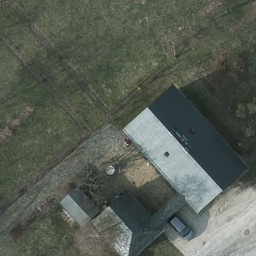car: (168, 215, 195, 241)
